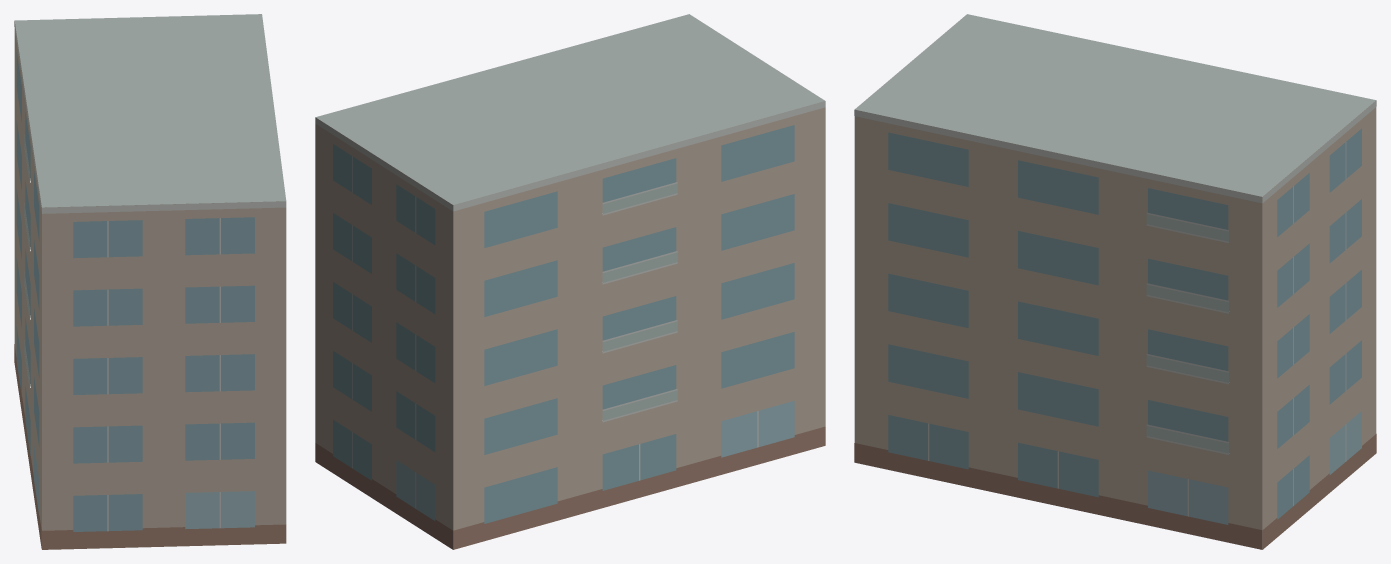
The model's file is survey-upis-32894319.glb.
3 views of the same model, side by side, from view 1: azimuth 30°, elevation 25°; view 2: azimuth 150°, elevation 25°; view 3: azimuth 270°, elevation 25° (orthographic). The views are drawn at different scales.
Visible parts, largest first — view 1: survey-upis-32894319.tmp; view 2: survey-upis-32894319.tmp; view 3: survey-upis-32894319.tmp.
Part boxes in pixels (<box>): survey-upis-32894319.tmp: <box>14,14,286,549</box>; survey-upis-32894319.tmp: <box>315,14,825,549</box>; survey-upis-32894319.tmp: <box>854,14,1376,549</box>.
Size of the model in its own units: 14.67 by 13.2 by 17.7.
